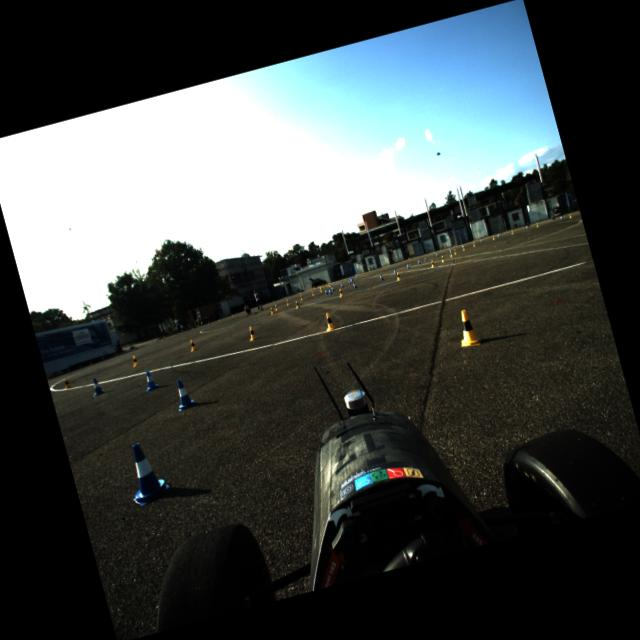blue_cone: (118, 436, 174, 508), (170, 376, 196, 410), (140, 368, 160, 392), (88, 376, 106, 396), (352, 280, 358, 288), (378, 272, 384, 280), (524, 223, 530, 230), (327, 287, 332, 294), (323, 287, 328, 294), (558, 213, 563, 220), (392, 268, 397, 274), (416, 258, 421, 264), (340, 281, 344, 287), (330, 284, 334, 290), (406, 262, 410, 268), (348, 279, 352, 284), (496, 232, 500, 237), (479, 236, 482, 242), (448, 248, 452, 252), (461, 243, 464, 248), (435, 252, 438, 256), (424, 256, 426, 261), (350, 277, 352, 282), (135, 345, 137, 349), (352, 274, 354, 278), (156, 339, 158, 342), (205, 322, 208, 324), (235, 312, 237, 315), (310, 287, 312, 290), (356, 275, 358, 278), (176, 332, 178, 334), (220, 318, 222, 320), (252, 306, 254, 308), (266, 302, 268, 304), (283, 296, 284, 298), (334, 280, 335, 282)
large_orange_cone: (207, 320, 210, 324)
yellow_cone: (452, 306, 482, 350), (321, 311, 336, 332), (245, 325, 257, 341), (129, 353, 140, 368), (188, 338, 198, 352), (62, 376, 72, 390), (428, 258, 436, 268), (394, 270, 401, 280), (337, 287, 344, 297), (293, 298, 300, 308), (273, 303, 279, 311), (268, 306, 274, 314), (439, 255, 445, 262), (567, 212, 572, 220), (310, 288, 315, 296), (285, 299, 290, 306), (448, 250, 452, 257), (453, 248, 457, 254), (300, 294, 304, 300), (535, 222, 539, 228), (318, 286, 322, 292), (46, 374, 50, 379), (472, 242, 476, 246), (115, 352, 119, 356), (510, 229, 513, 234), (89, 361, 92, 366), (492, 235, 494, 240), (462, 246, 464, 250), (140, 344, 142, 348), (181, 330, 183, 334), (197, 324, 199, 328), (218, 317, 220, 321), (328, 282, 330, 286), (326, 282, 328, 286), (162, 337, 164, 340), (231, 313, 233, 316), (329, 284, 332, 286), (322, 284, 324, 287), (285, 295, 287, 298), (272, 300, 274, 302), (298, 292, 300, 294)
